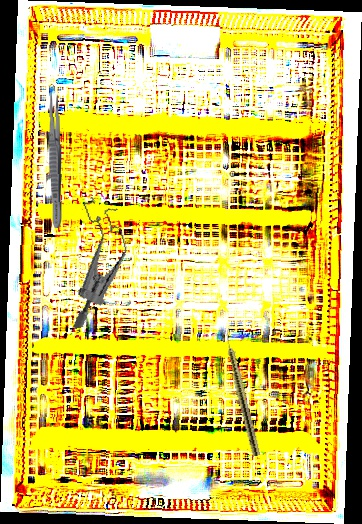Dressing Forceps: (45, 90, 65, 229)
Handpiece: (220, 327, 263, 457)
Speculum: (41, 191, 146, 330)
